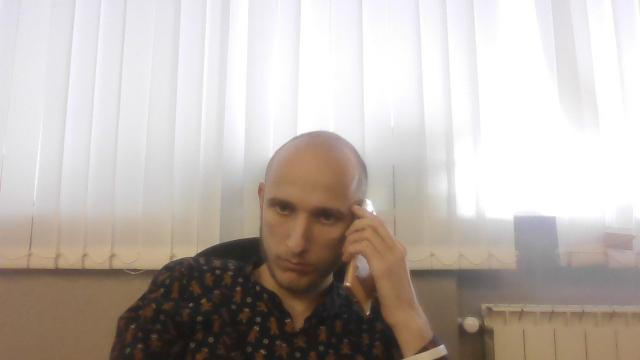PhoneUse: (339, 197, 391, 316)
SafeDriving: (309, 207, 347, 232), (266, 196, 300, 221)
